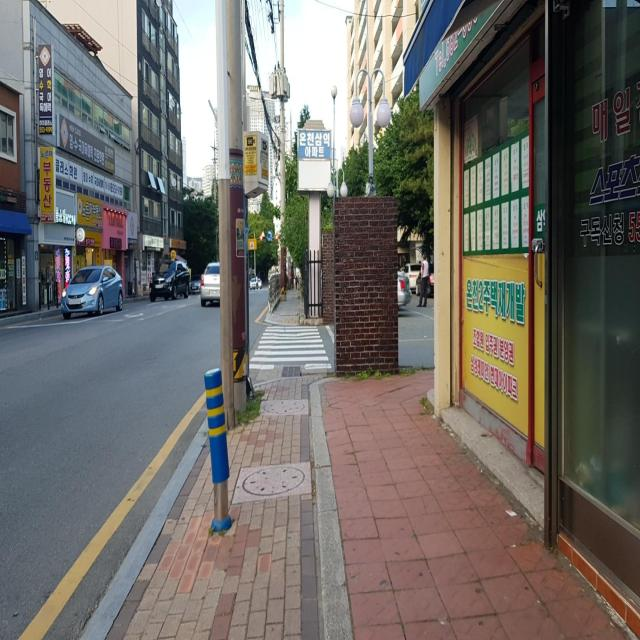횡단보도: (249, 325, 332, 371)
